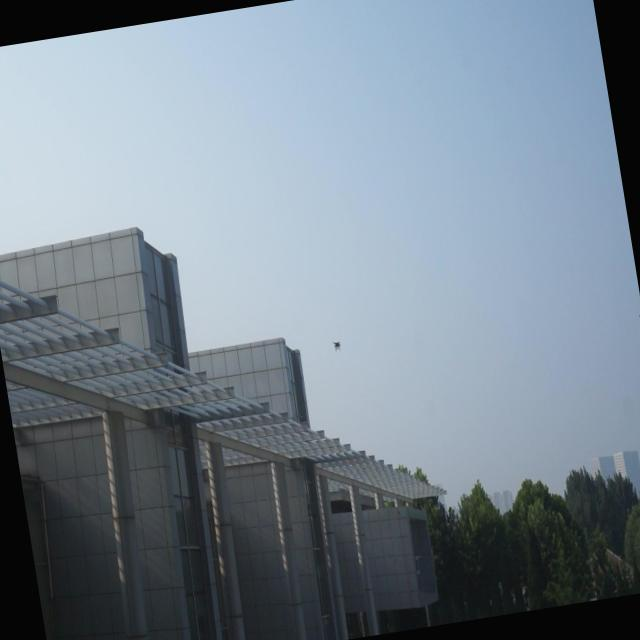drone: (330, 336, 343, 353)
